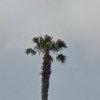Palm tree: (22, 27, 66, 100)
